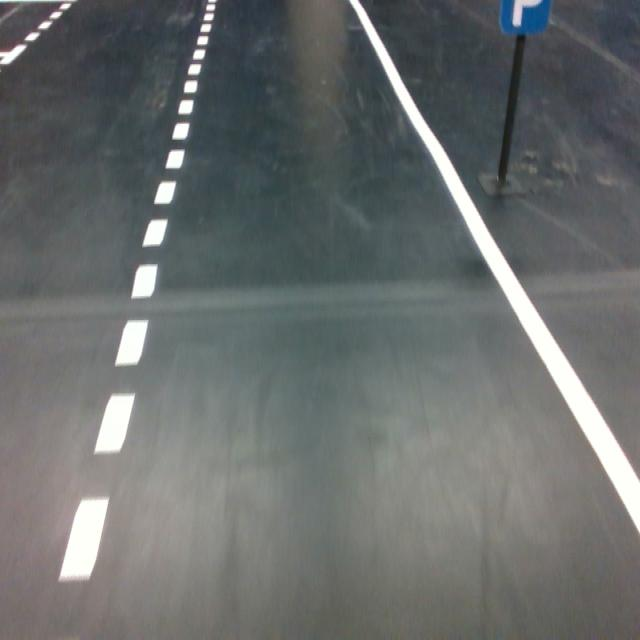parking-sign: (498, 0, 551, 36)
